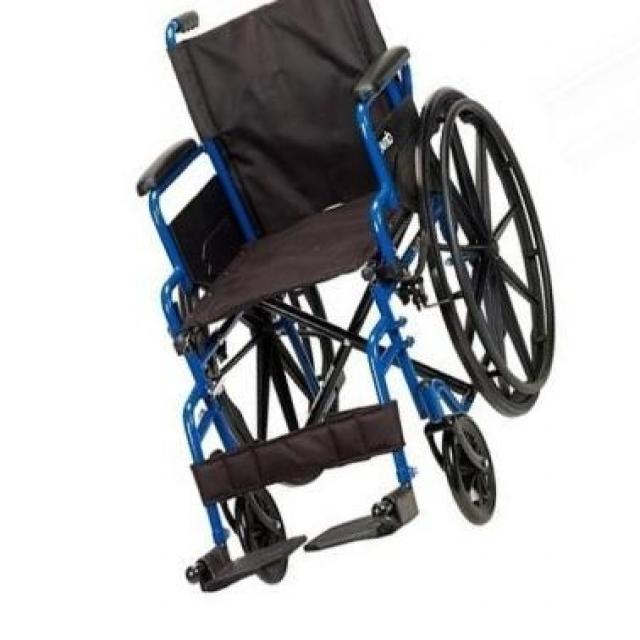wheelchair: (119, 0, 571, 601)
